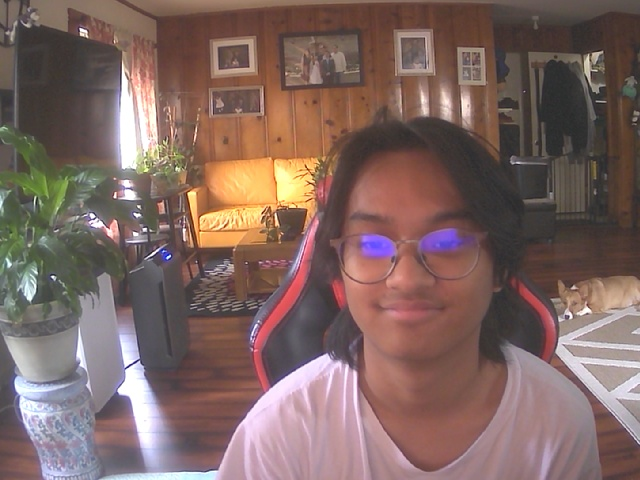happy: (327, 134, 515, 364)
